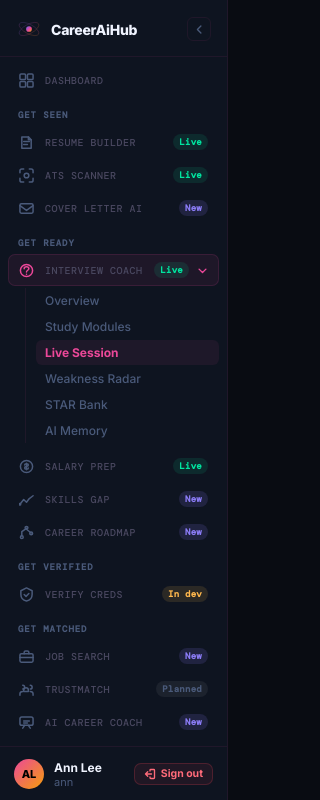
Test case: the sub-items open and close like a real accordion › clicking the open feature closes its parts without leaving the page, and clicking again opens them
Click the button "Interview Coach Live": {"x": 114, "y": 270} [8, 254, 219, 286]
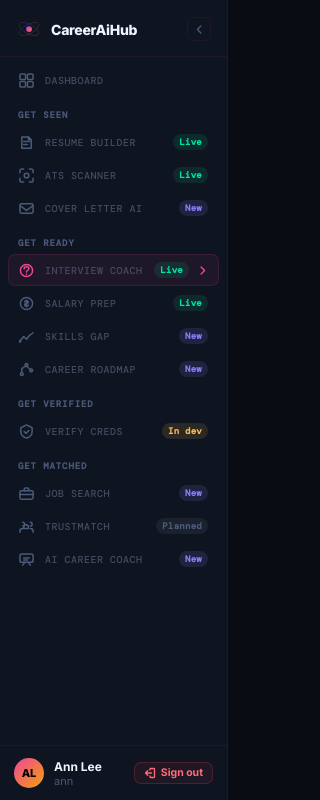
Result: the button "Interview Coach Live" is collapsed
Click the button "Interview Coach Live": {"x": 114, "y": 270} [8, 254, 219, 286]
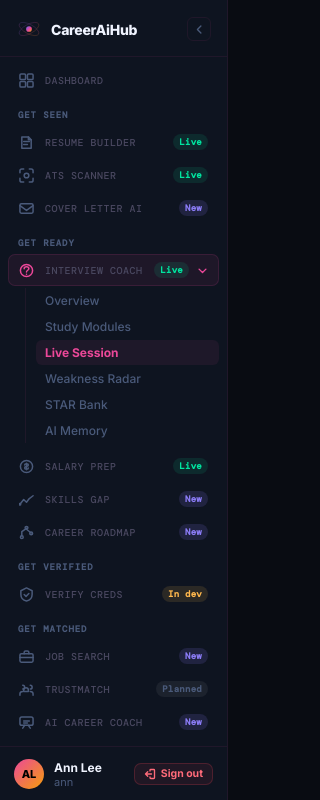
Result: the button "Interview Coach Live" is expanded at [8, 254, 219, 286]
Result: the button "Live Session" is shown at [36, 340, 219, 365]
